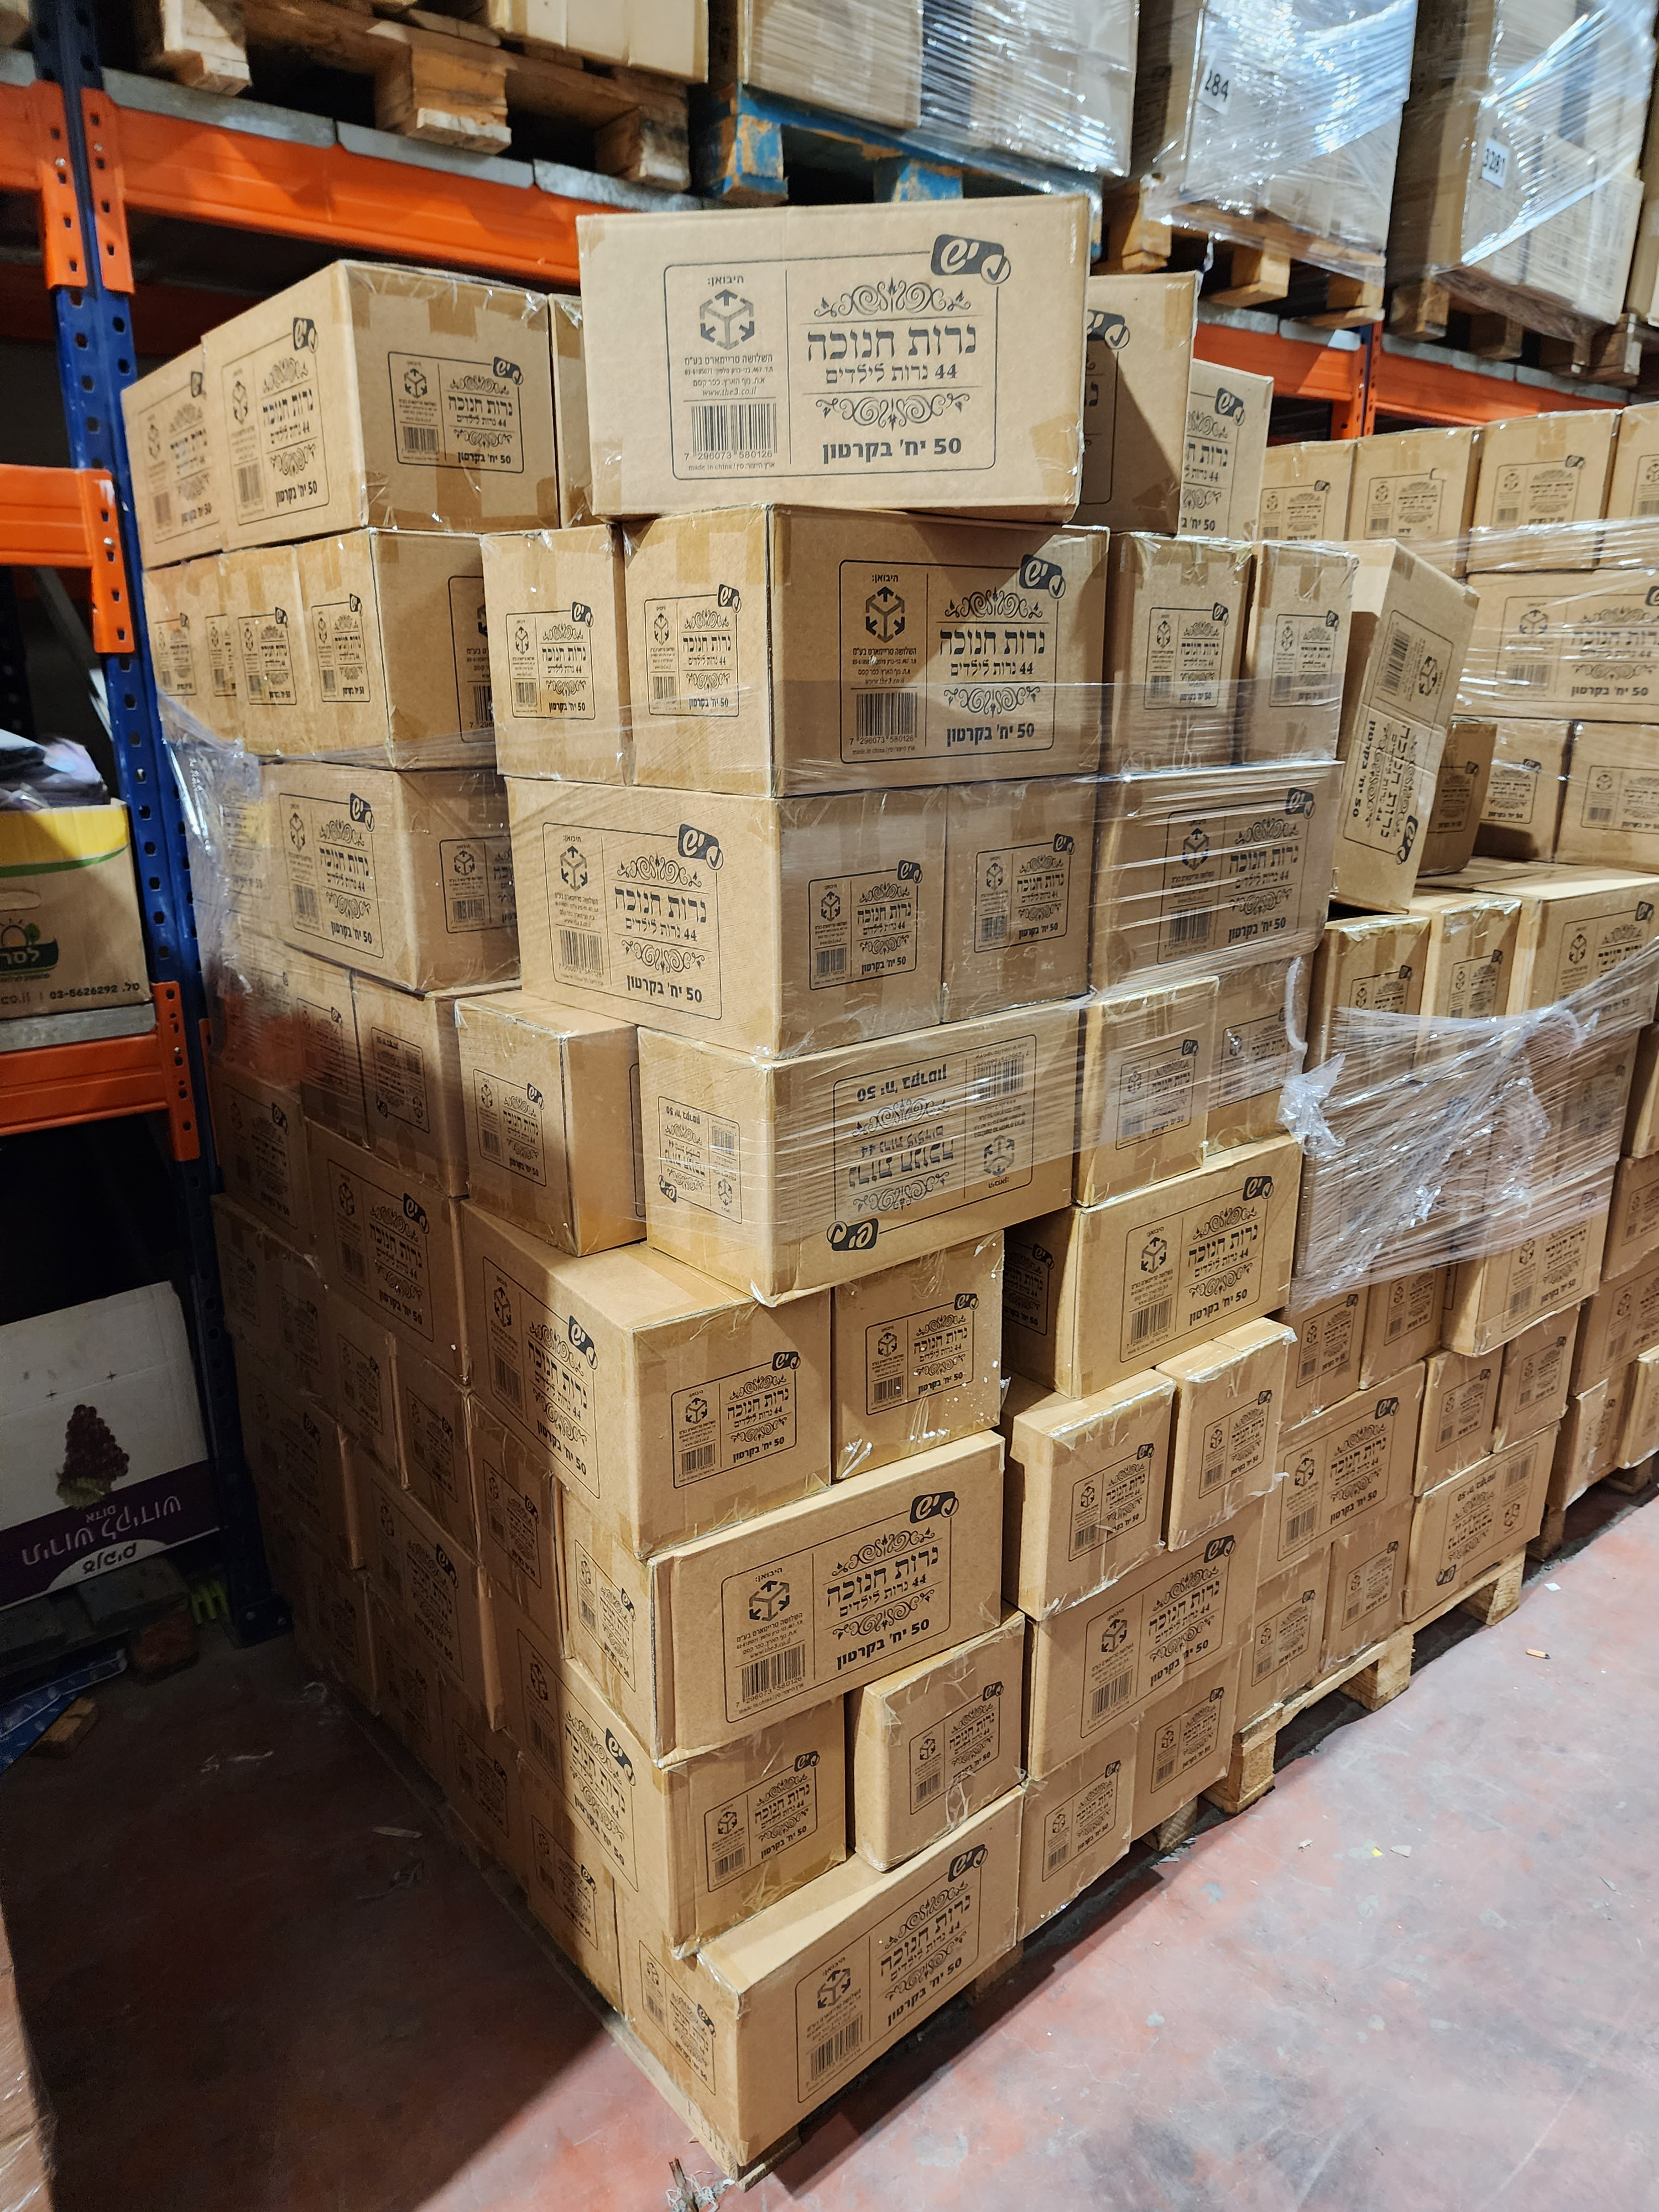box: (558, 172, 1114, 536), (490, 751, 1112, 1042), (613, 502, 1131, 822), (453, 1170, 854, 1552), (99, 256, 603, 559), (622, 1012, 1098, 1308), (613, 1926, 1147, 2172), (1371, 894, 1659, 1331), (516, 1646, 870, 1954), (118, 543, 493, 784), (186, 758, 486, 1001), (1026, 1165, 1364, 1362), (1446, 33, 1659, 329), (1338, 559, 1511, 914), (990, 1413, 1222, 1639), (1108, 528, 1293, 784), (467, 484, 622, 787), (1162, 1324, 1361, 1548), (1394, 1451, 1621, 1623), (840, 1679, 1046, 1860), (1471, 390, 1615, 589)
